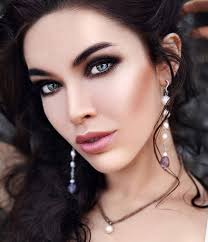white_female: (40, 31, 171, 181)
